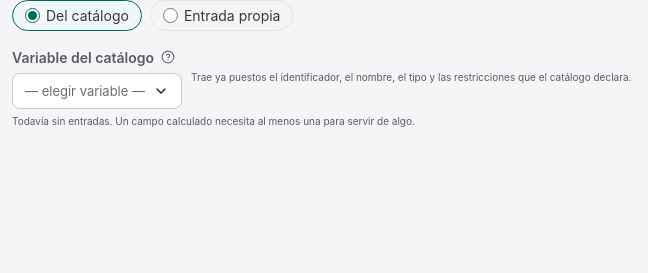
Test: entradas de un campo calculado › ofrece las variables del catálogo en un select, con su código y su tipo
This screenshot has width=648, height=273.
Click the dropdown named "Variable del catálogo": click(97, 91) top-left (12, 73), bottom-right (182, 109)
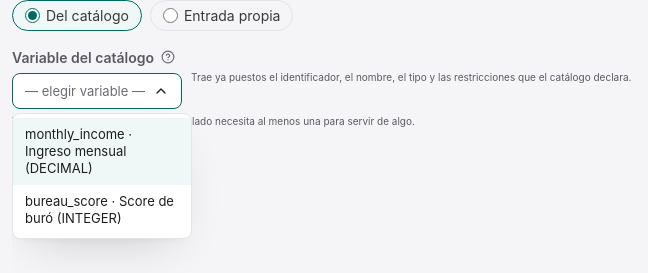
expect the option "monthly_income · Ingreso mensual (DECIMAL)" is shown: met, box top-left (13, 118), bottom-right (191, 185)
expect the option "bureau_score · Score de buró (INTEGER)" is shown: met, box top-left (25, 193), bottom-right (174, 226)
